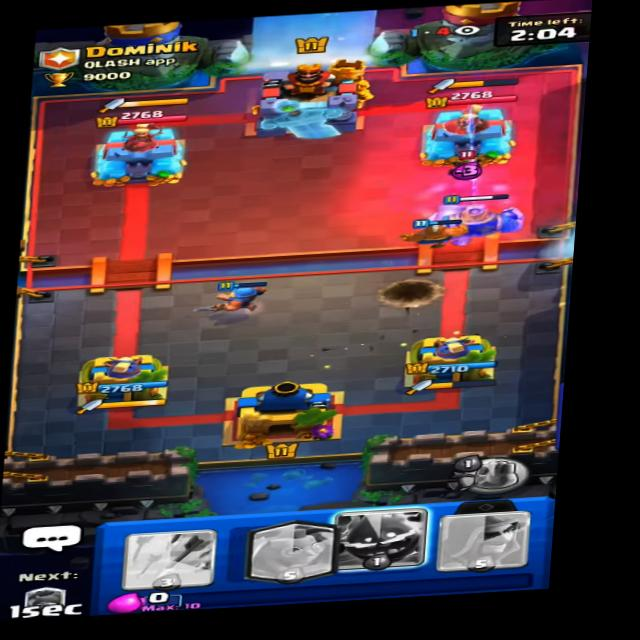little-prince: (437, 146, 496, 186)
